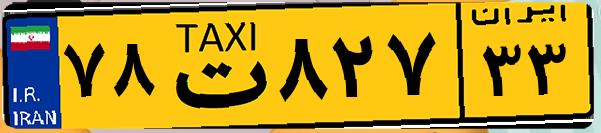2: (330, 28, 385, 110)
3: (475, 38, 525, 113), (525, 38, 570, 115)
7: (385, 28, 445, 110), (57, 26, 110, 100)
8: (270, 28, 330, 110), (110, 28, 158, 98)
ت: (158, 12, 270, 120)
